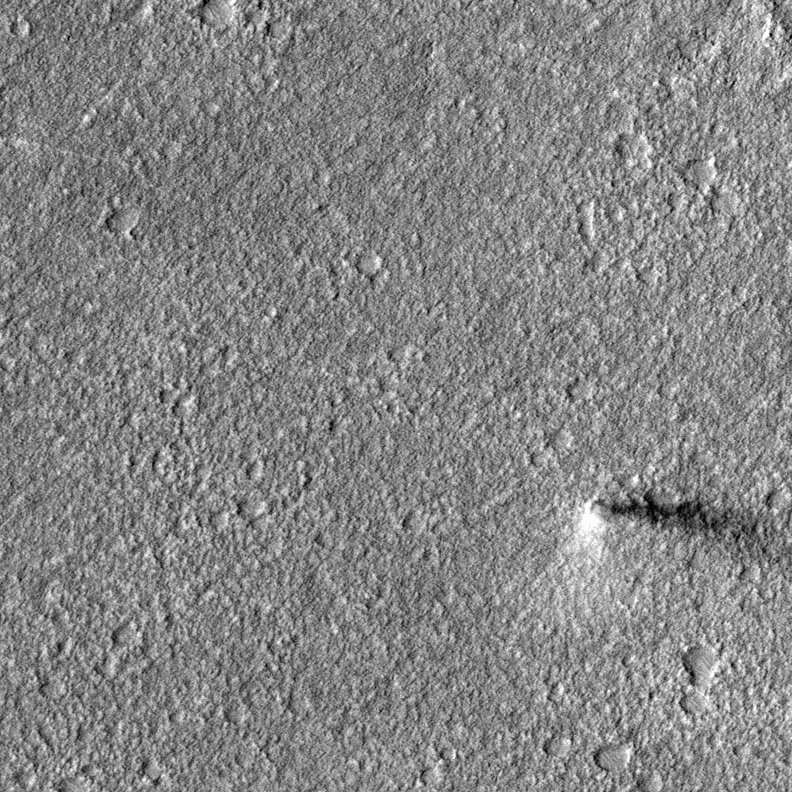dust_devil: (574, 492, 785, 568)
